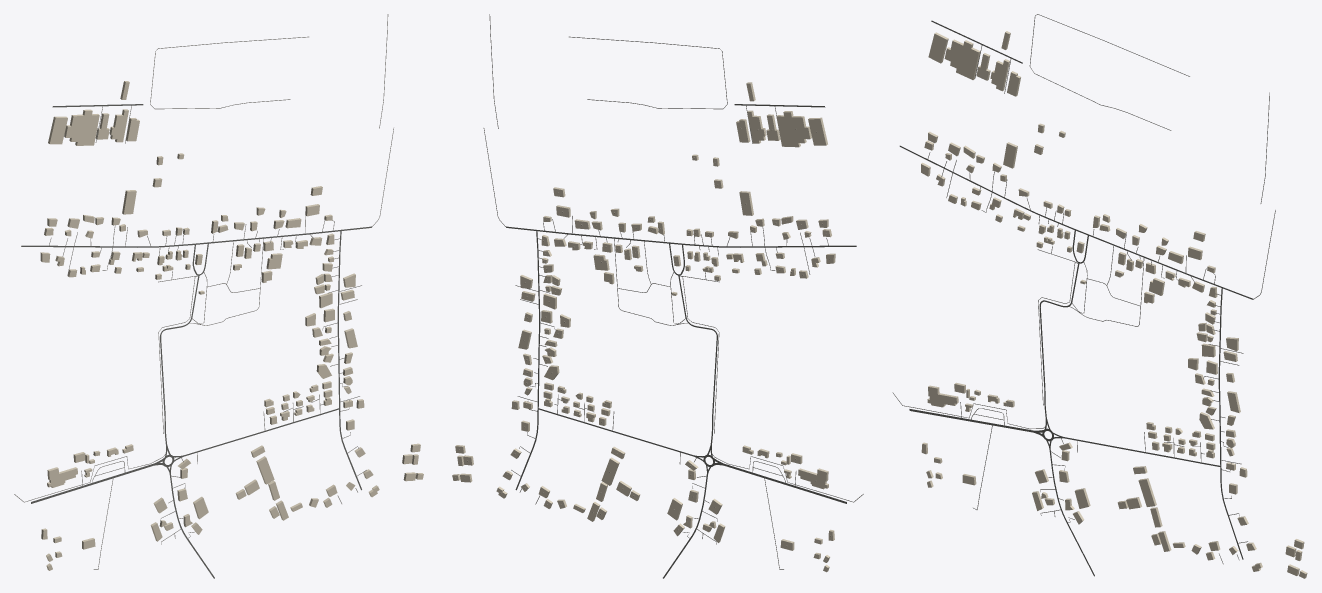
Rendered from historic-palestine-07_25_3486_3195.glb.
The picture shows the model from 3 angles, left to right: view 1: azimuth 30°, elevation 25°; view 2: azimuth 150°, elevation 25°; view 3: azimuth 330°, elevation 25°; orthographic projection.
Visible parts, largest first — view 1: Building_.147, Road צאלון; view 2: Building_.147, Road צאלון; view 3: Building_.147, Road צאלון, Road דקל.
Part boxes in pixels (x1,y1,x2,y2): Building_.147: (64,109,99,145); Road צאלון: (21,226,371,247); Building_.147: (776,111,811,147); Road צאלון: (506,226,856,247); Building_.147: (944,39,980,79); Road צאלון: (899,145,1253,299); Road דקל: (1218,287,1243,559).
Size of the model in its own units: 1030 by 1307 by 8.7.
